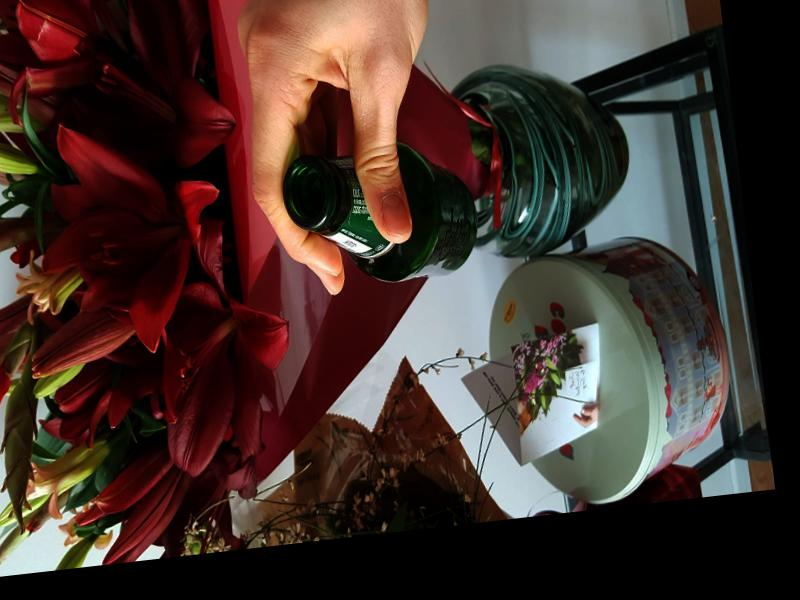Beer: (278, 132, 482, 293)
